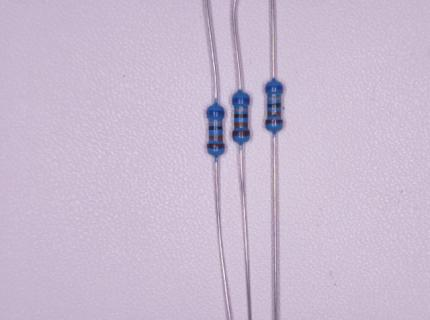Black band: (267, 103, 281, 108), (208, 126, 223, 130), (234, 114, 248, 118)
Blue band: (232, 97, 250, 104), (265, 85, 284, 91), (206, 111, 225, 116)
Brown band: (232, 130, 250, 137), (207, 143, 225, 149), (265, 119, 283, 124)
Grey band: (267, 96, 282, 101), (208, 120, 223, 124), (234, 108, 248, 112)
Orange band: (234, 122, 248, 128), (208, 135, 223, 140), (267, 111, 282, 116)
